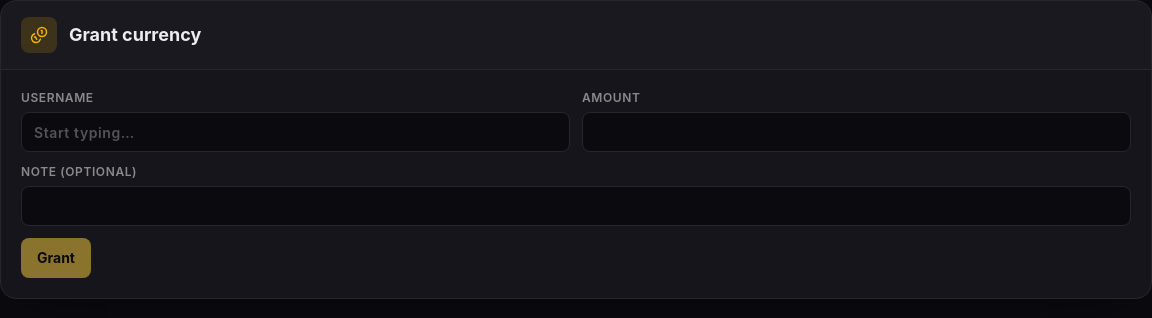
it: GrantPanel › suggests players while typing and only grants to a picked one
Expected: the button "Grant" is disabled, [21,238,91,278]
Type "sak" into the dropdown labelled "Username" at [296, 132], box [21,112,570,152]
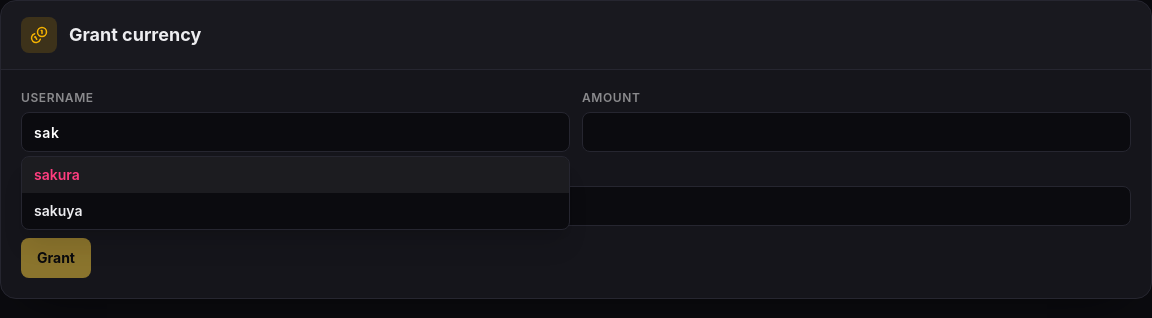
Now the option "sakuya" is shown, box [34,202,82,219]
Click the option "sakura" at [57, 174], box [22,157,569,193]
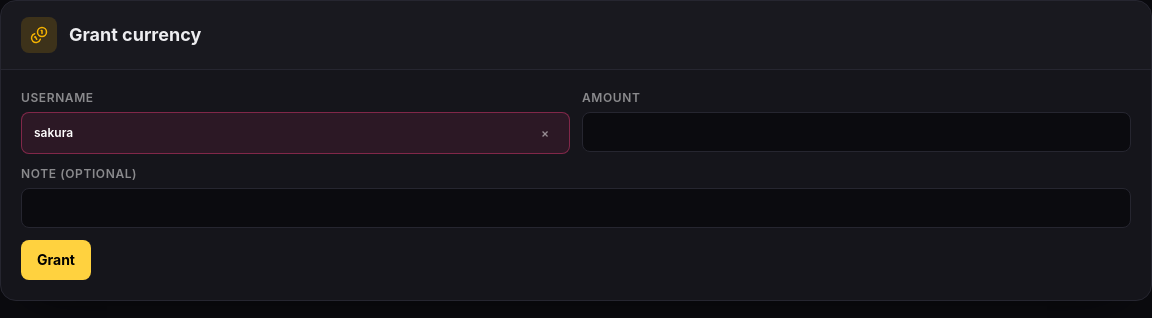
Now the text "sakura" is shown, box [34,125,73,141]
Now the dropdown is gone
Now the button "Grant" is enabled, box [21,240,91,280]
Click the button named "Clear" at [545, 133], box [533,121,557,145]
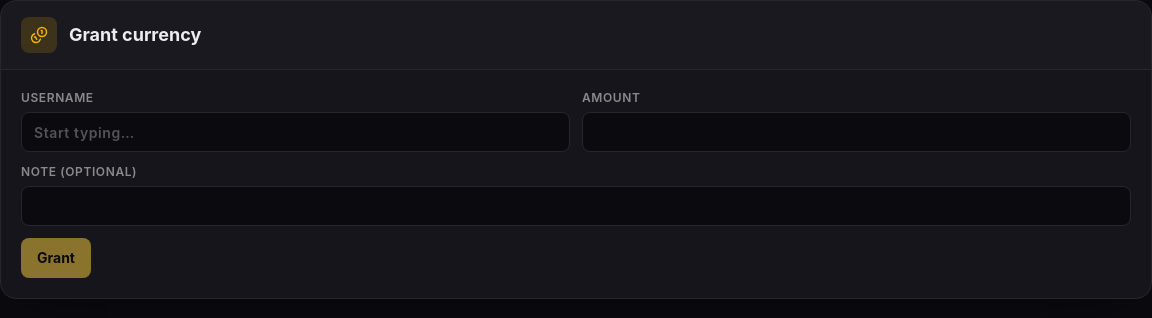
Now the dropdown labelled "Username" is shown, box [21,112,570,152]
